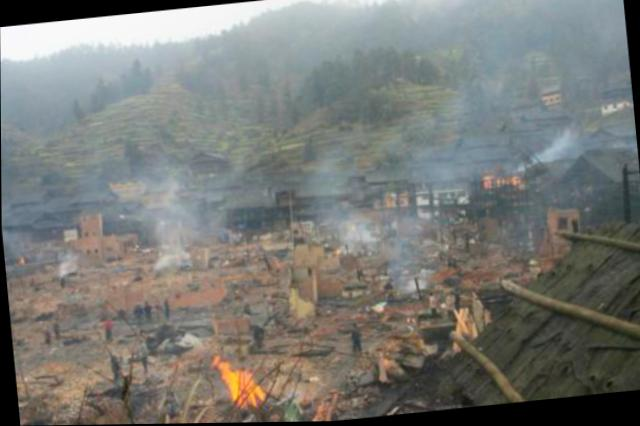fire: (222, 359, 265, 410)
